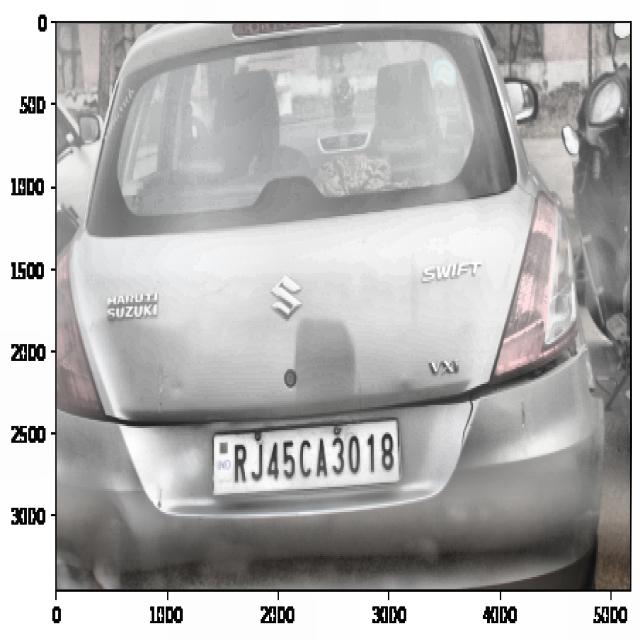license_plate: (220, 430, 400, 487)
